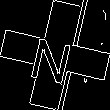N_N: (30, 26, 80, 84)
